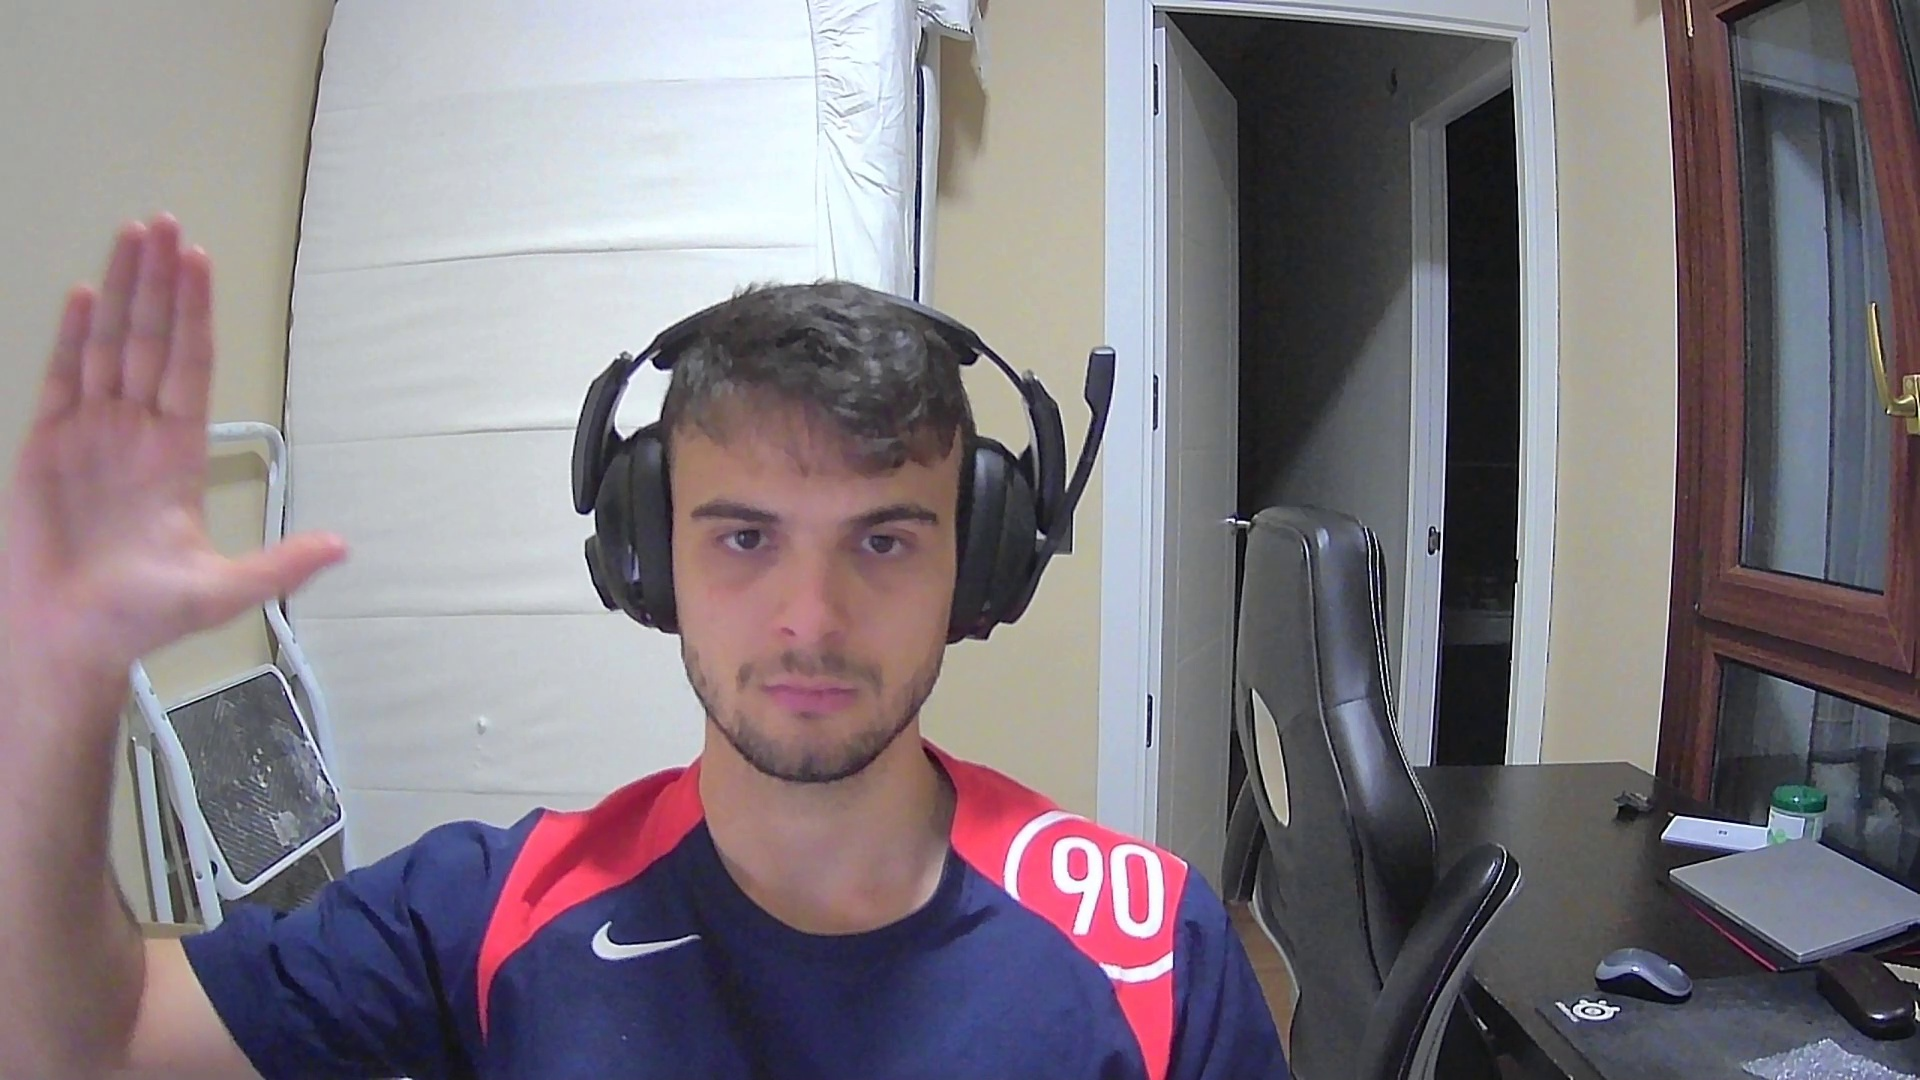Palm: (1, 211, 357, 665)
